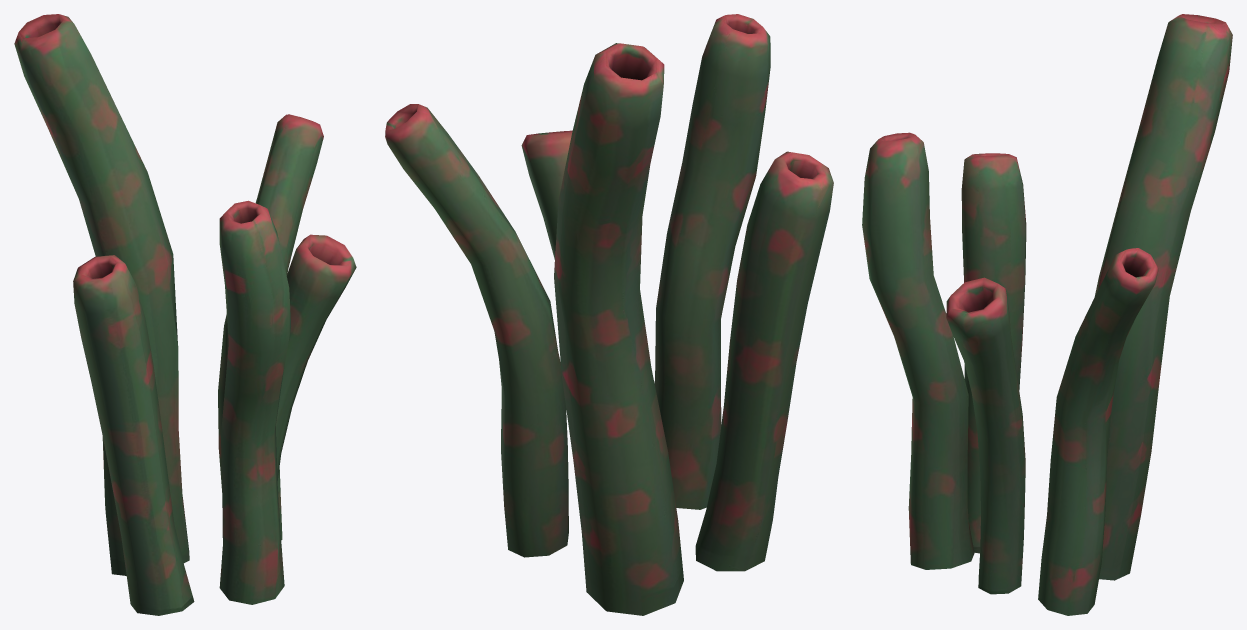
File: 04-BVThin.fbx
3 renders of one model, left to right at view 1: azimuth 30°, elevation 25°; view 2: azimuth 150°, elevation 25°; view 3: azimuth 270°, elevation 25°, orthographic. The views are drawn at different scales.
Parts seen in each view (by area): view 1: 04-BVThin_LOD00; view 2: 04-BVThin_LOD00; view 3: 04-BVThin_LOD00.
Boxes of the visible parts, bbox=[...] form: 04-BVThin_LOD00: bbox=[14, 14, 356, 615]; 04-BVThin_LOD00: bbox=[385, 14, 833, 615]; 04-BVThin_LOD00: bbox=[862, 14, 1232, 615].
Size of what is drawn, in the model's own units: 52.78 by 85.07 by 53.53.
